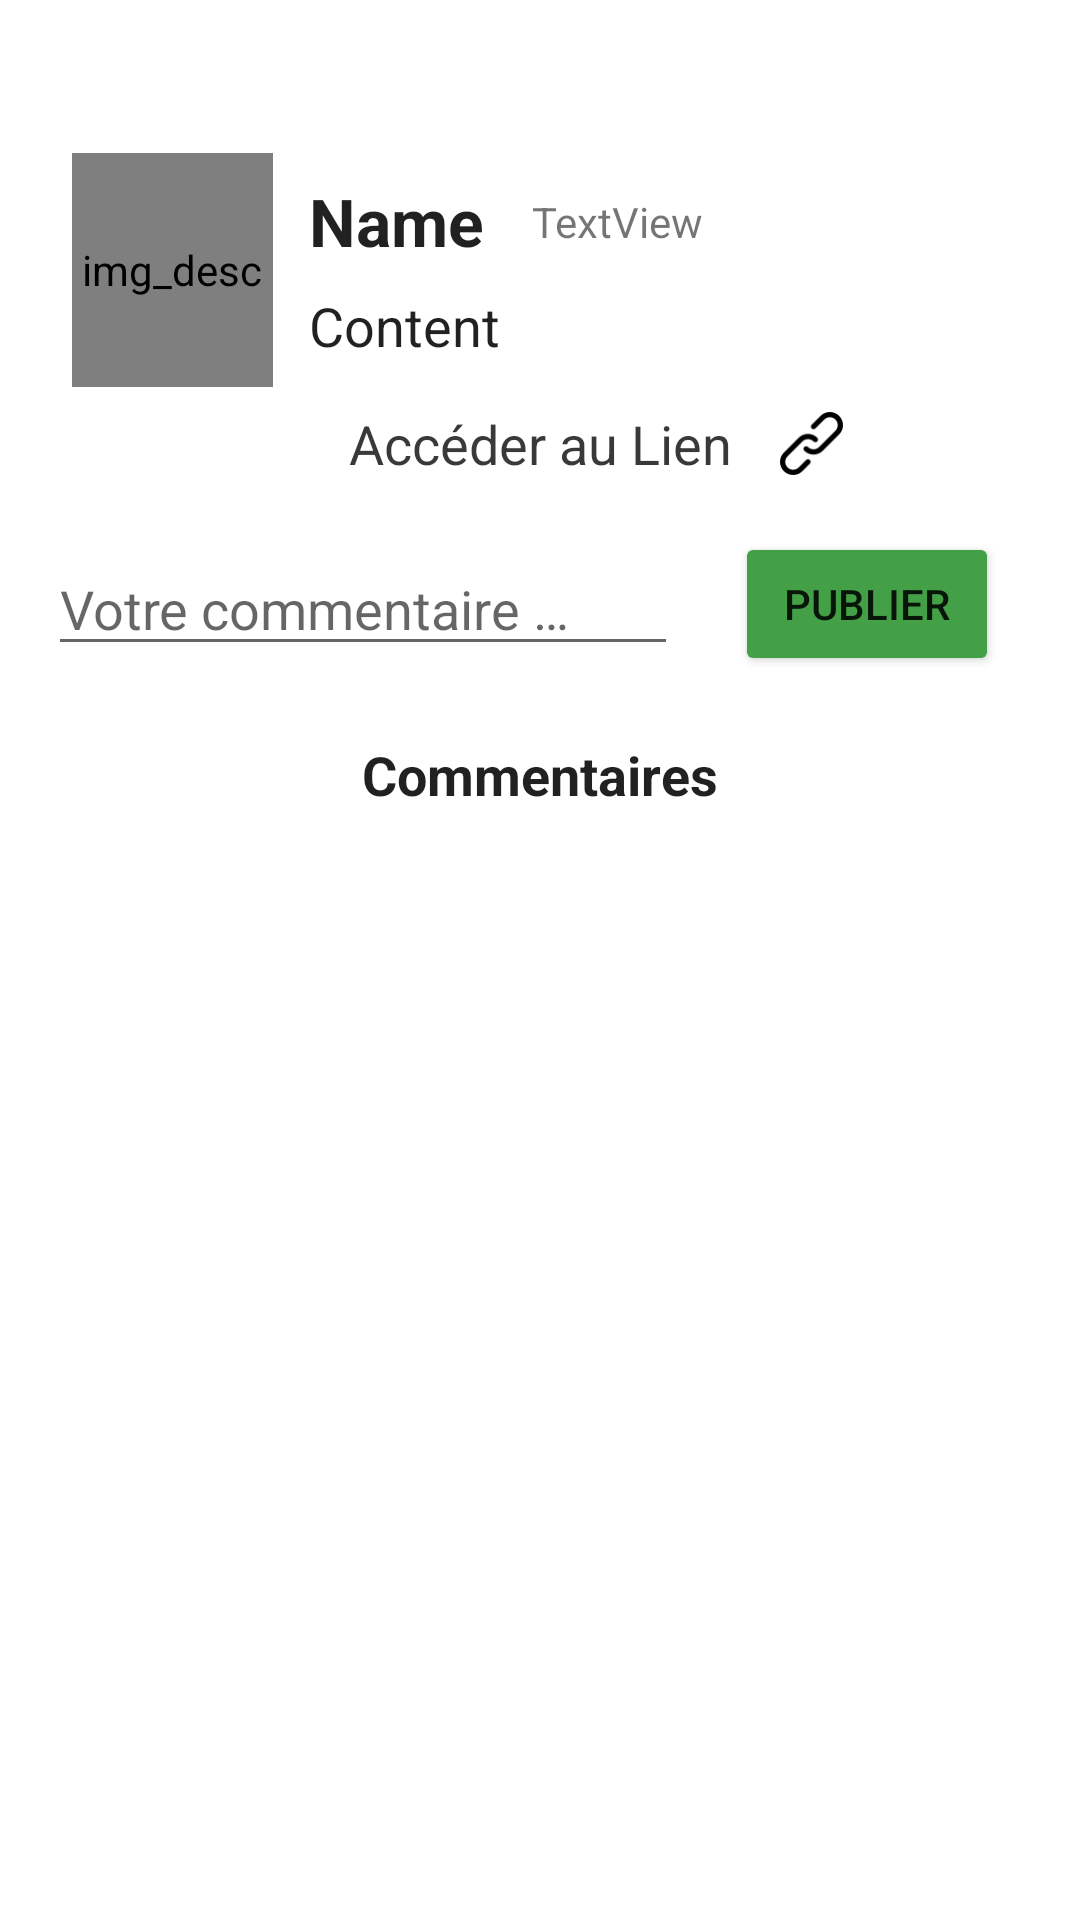

Point at icon controls on the screen. Image size 1080×1920, points as [x,y].
link: [811,443]
